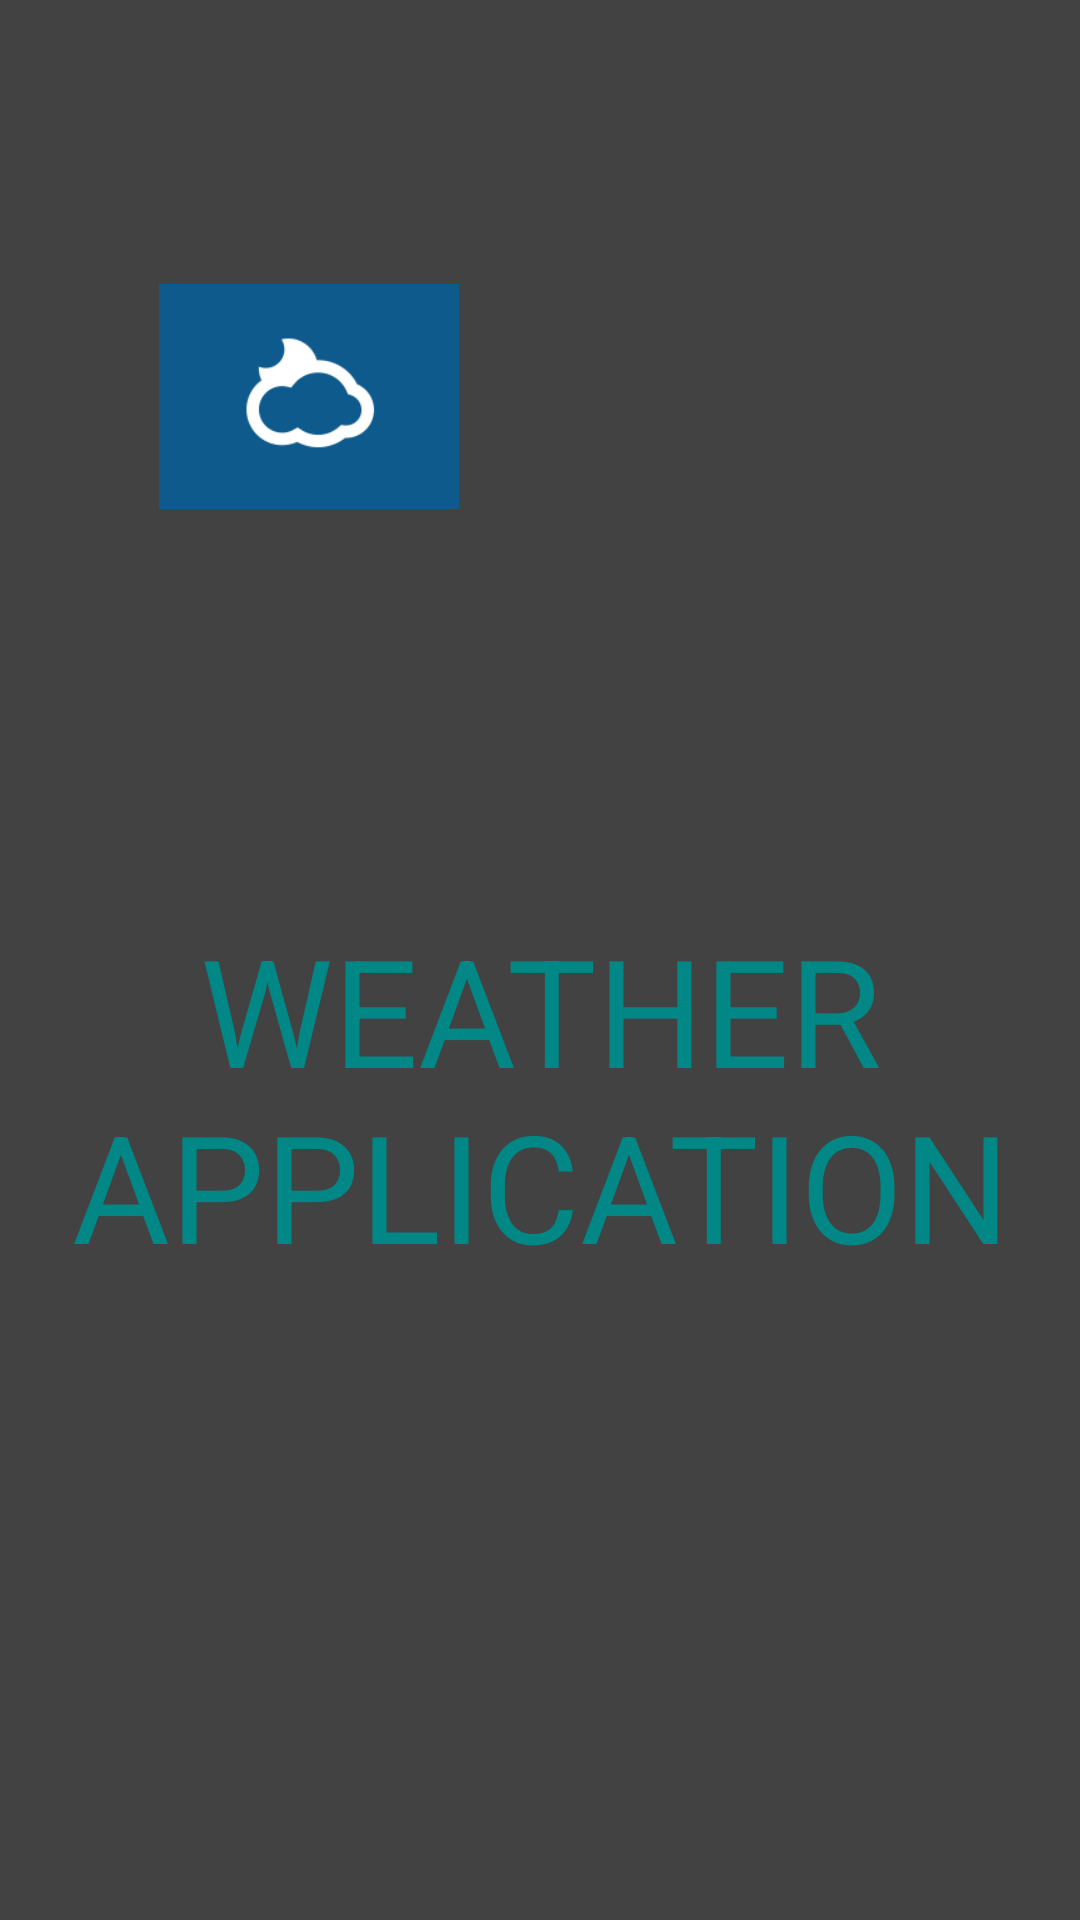

Icon bounding boxes for this 1080px x 1920px phone screenshot, format (x1, y1, x2, y2):
cloud: (159, 284, 459, 509)
